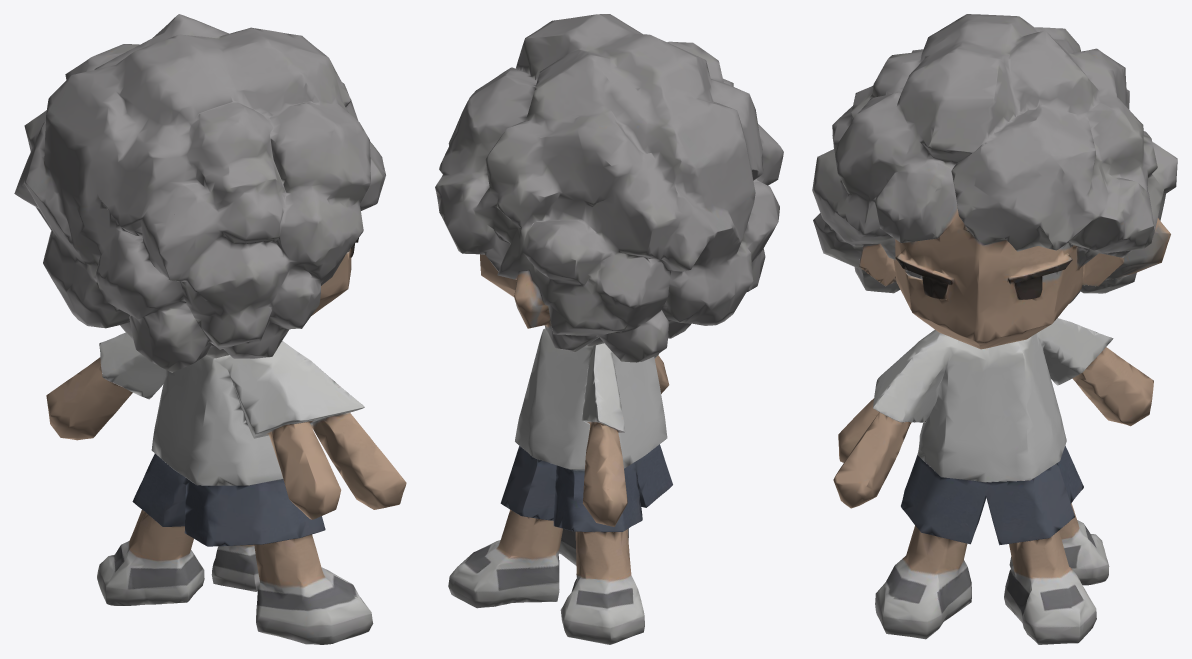
The model's file is dressed.glb.
The picture shows the model from 3 angles, left to right: view 1: azimuth 30°, elevation 25°; view 2: azimuth 150°, elevation 25°; view 3: azimuth 270°, elevation 25°; orthographic projection. The views are drawn at different scales.
Parts seen in each view (by area): view 1: tripo_node_7fcc18b0-e6e0-47c2-952b-42c9d4823627; view 2: tripo_node_7fcc18b0-e6e0-47c2-952b-42c9d4823627; view 3: tripo_node_7fcc18b0-e6e0-47c2-952b-42c9d4823627.
Boxes of the visible parts, <box> form: tripo_node_7fcc18b0-e6e0-47c2-952b-42c9d4823627: <box>14,14,406,644</box>; tripo_node_7fcc18b0-e6e0-47c2-952b-42c9d4823627: <box>435,14,783,644</box>; tripo_node_7fcc18b0-e6e0-47c2-952b-42c9d4823627: <box>812,14,1177,644</box>.
Size of the model in its own units: 0.5255 by 1 by 0.5961.
1 material, 1 textured.
